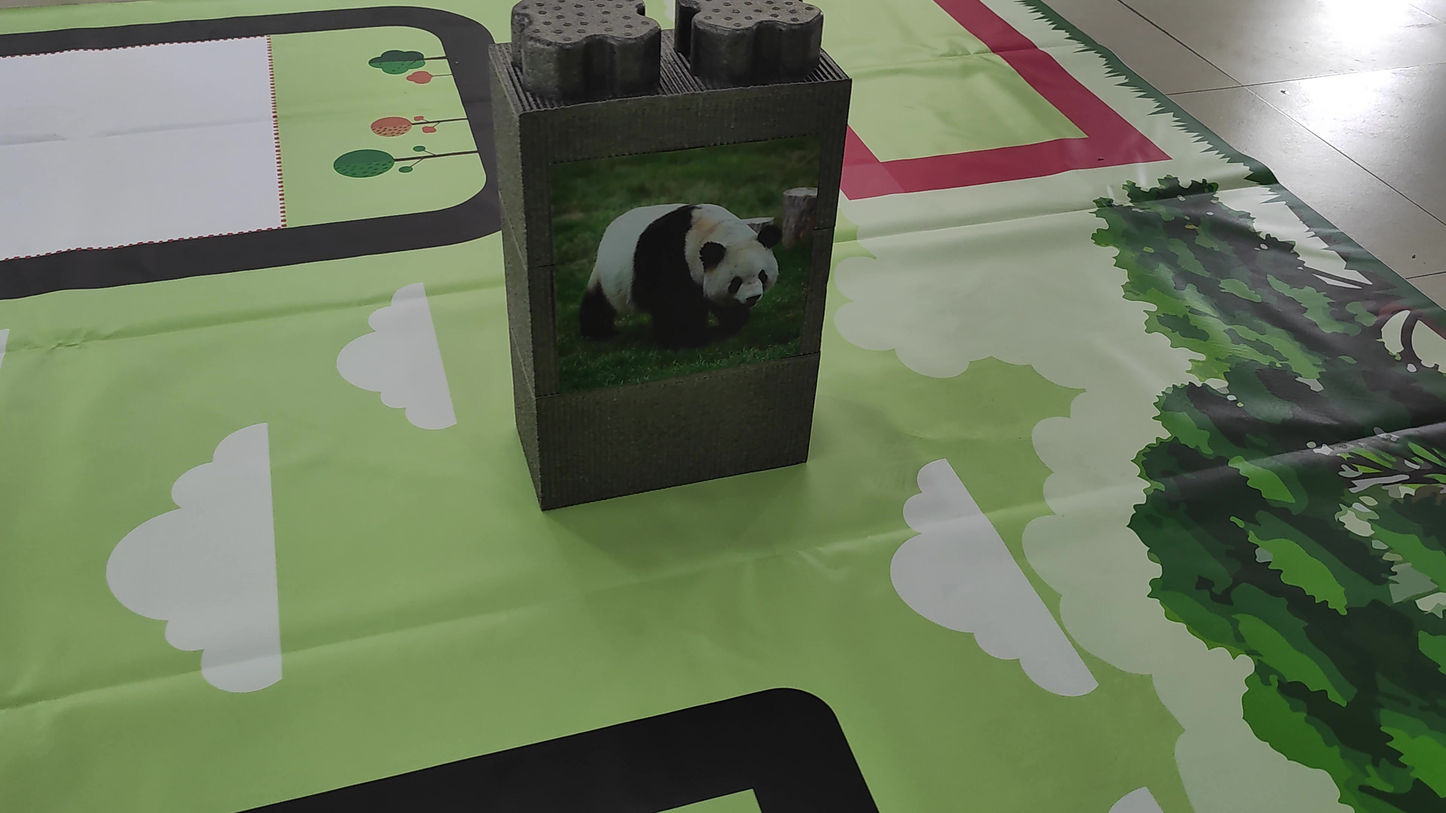panda: (545, 181, 799, 354)
